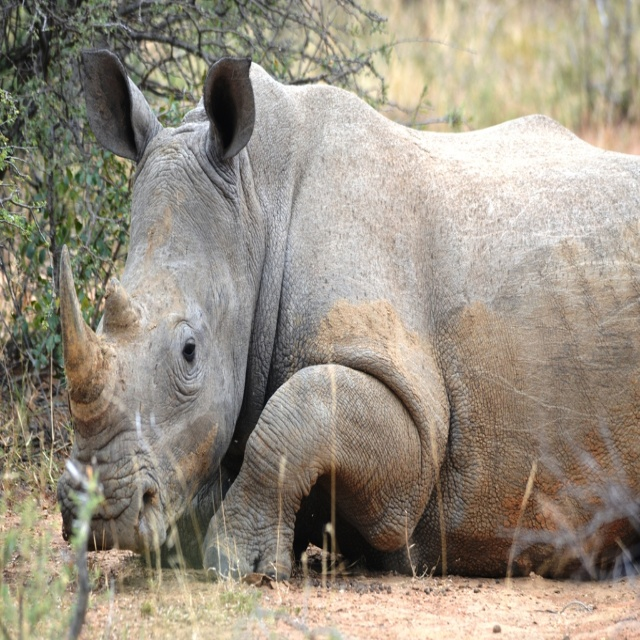Rhinoceros: (51, 42, 640, 588)
